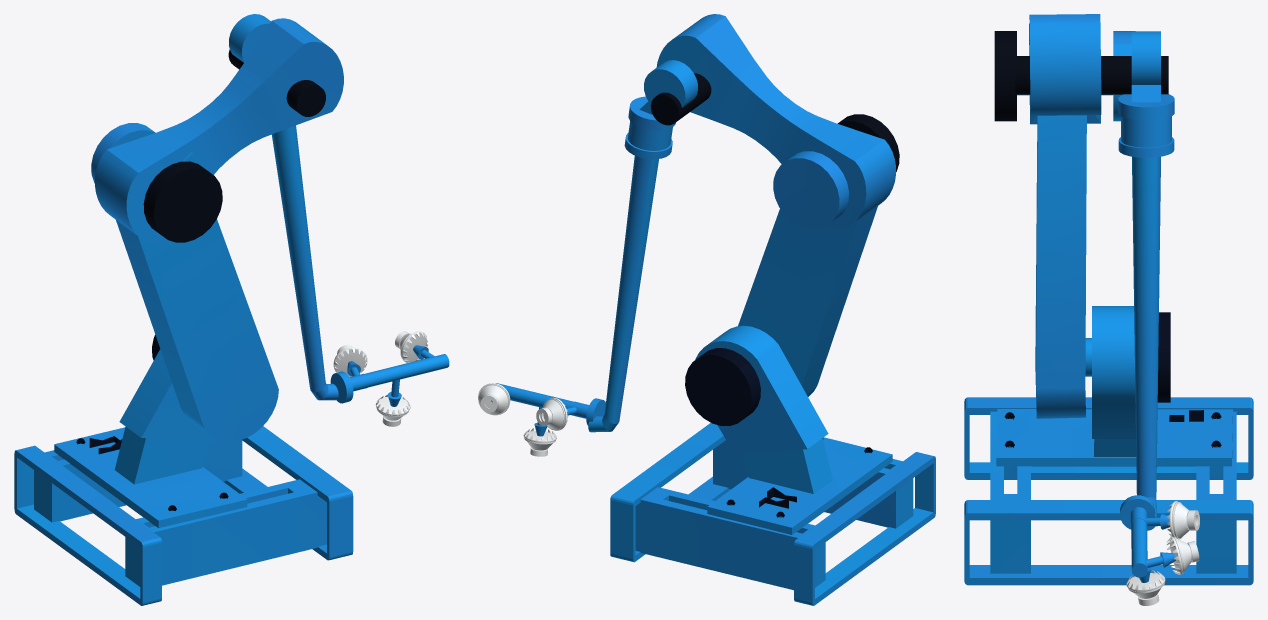
File: rocket_animat 1.fbx
The picture shows the model from 3 angles, left to right: view 1: azimuth 30°, elevation 25°; view 2: azimuth 150°, elevation 25°; view 3: azimuth 270°, elevation 25°; orthographic projection. The views are drawn at different scales.
Parts seen in each view (by area): view 1: Cylinder.001, Cylinder.003, Cylinder.002, Cylinder.005, Cylinder.006; view 2: Cylinder.001, Cylinder.003, Cylinder.002, Cylinder.005, Cylinder.006; view 3: Cylinder.001, Cylinder.002, Cylinder.003, Cylinder.005, Cylinder.006.
Boxes of the visible parts, left/top/right/bottom form: Cylinder.001: left=14, top=335, right=353, bottom=605; Cylinder.003: left=91, top=14, right=343, bottom=243; Cylinder.002: left=116, top=152, right=278, bottom=441; Cylinder.005: left=271, top=125, right=338, bottom=400; Cylinder.006: left=330, top=331, right=449, bottom=426; Cylinder.001: left=610, top=325, right=935, bottom=605; Cylinder.003: left=639, top=14, right=899, bottom=229; Cylinder.002: left=738, top=141, right=877, bottom=396; Cylinder.005: left=588, top=96, right=675, bottom=432; Cylinder.006: left=478, top=383, right=605, bottom=456; Cylinder.001: left=964, top=306, right=1253, bottom=585; Cylinder.002: left=1035, top=115, right=1086, bottom=418; Cylinder.003: left=994, top=14, right=1168, bottom=124; Cylinder.005: left=1017, top=94, right=1174, bottom=530; Cylinder.006: left=1120, top=495, right=1199, bottom=605.
Size of the model in its own units: 181 by 225 by 106.
Materials: 5 (5 with a texture image).
